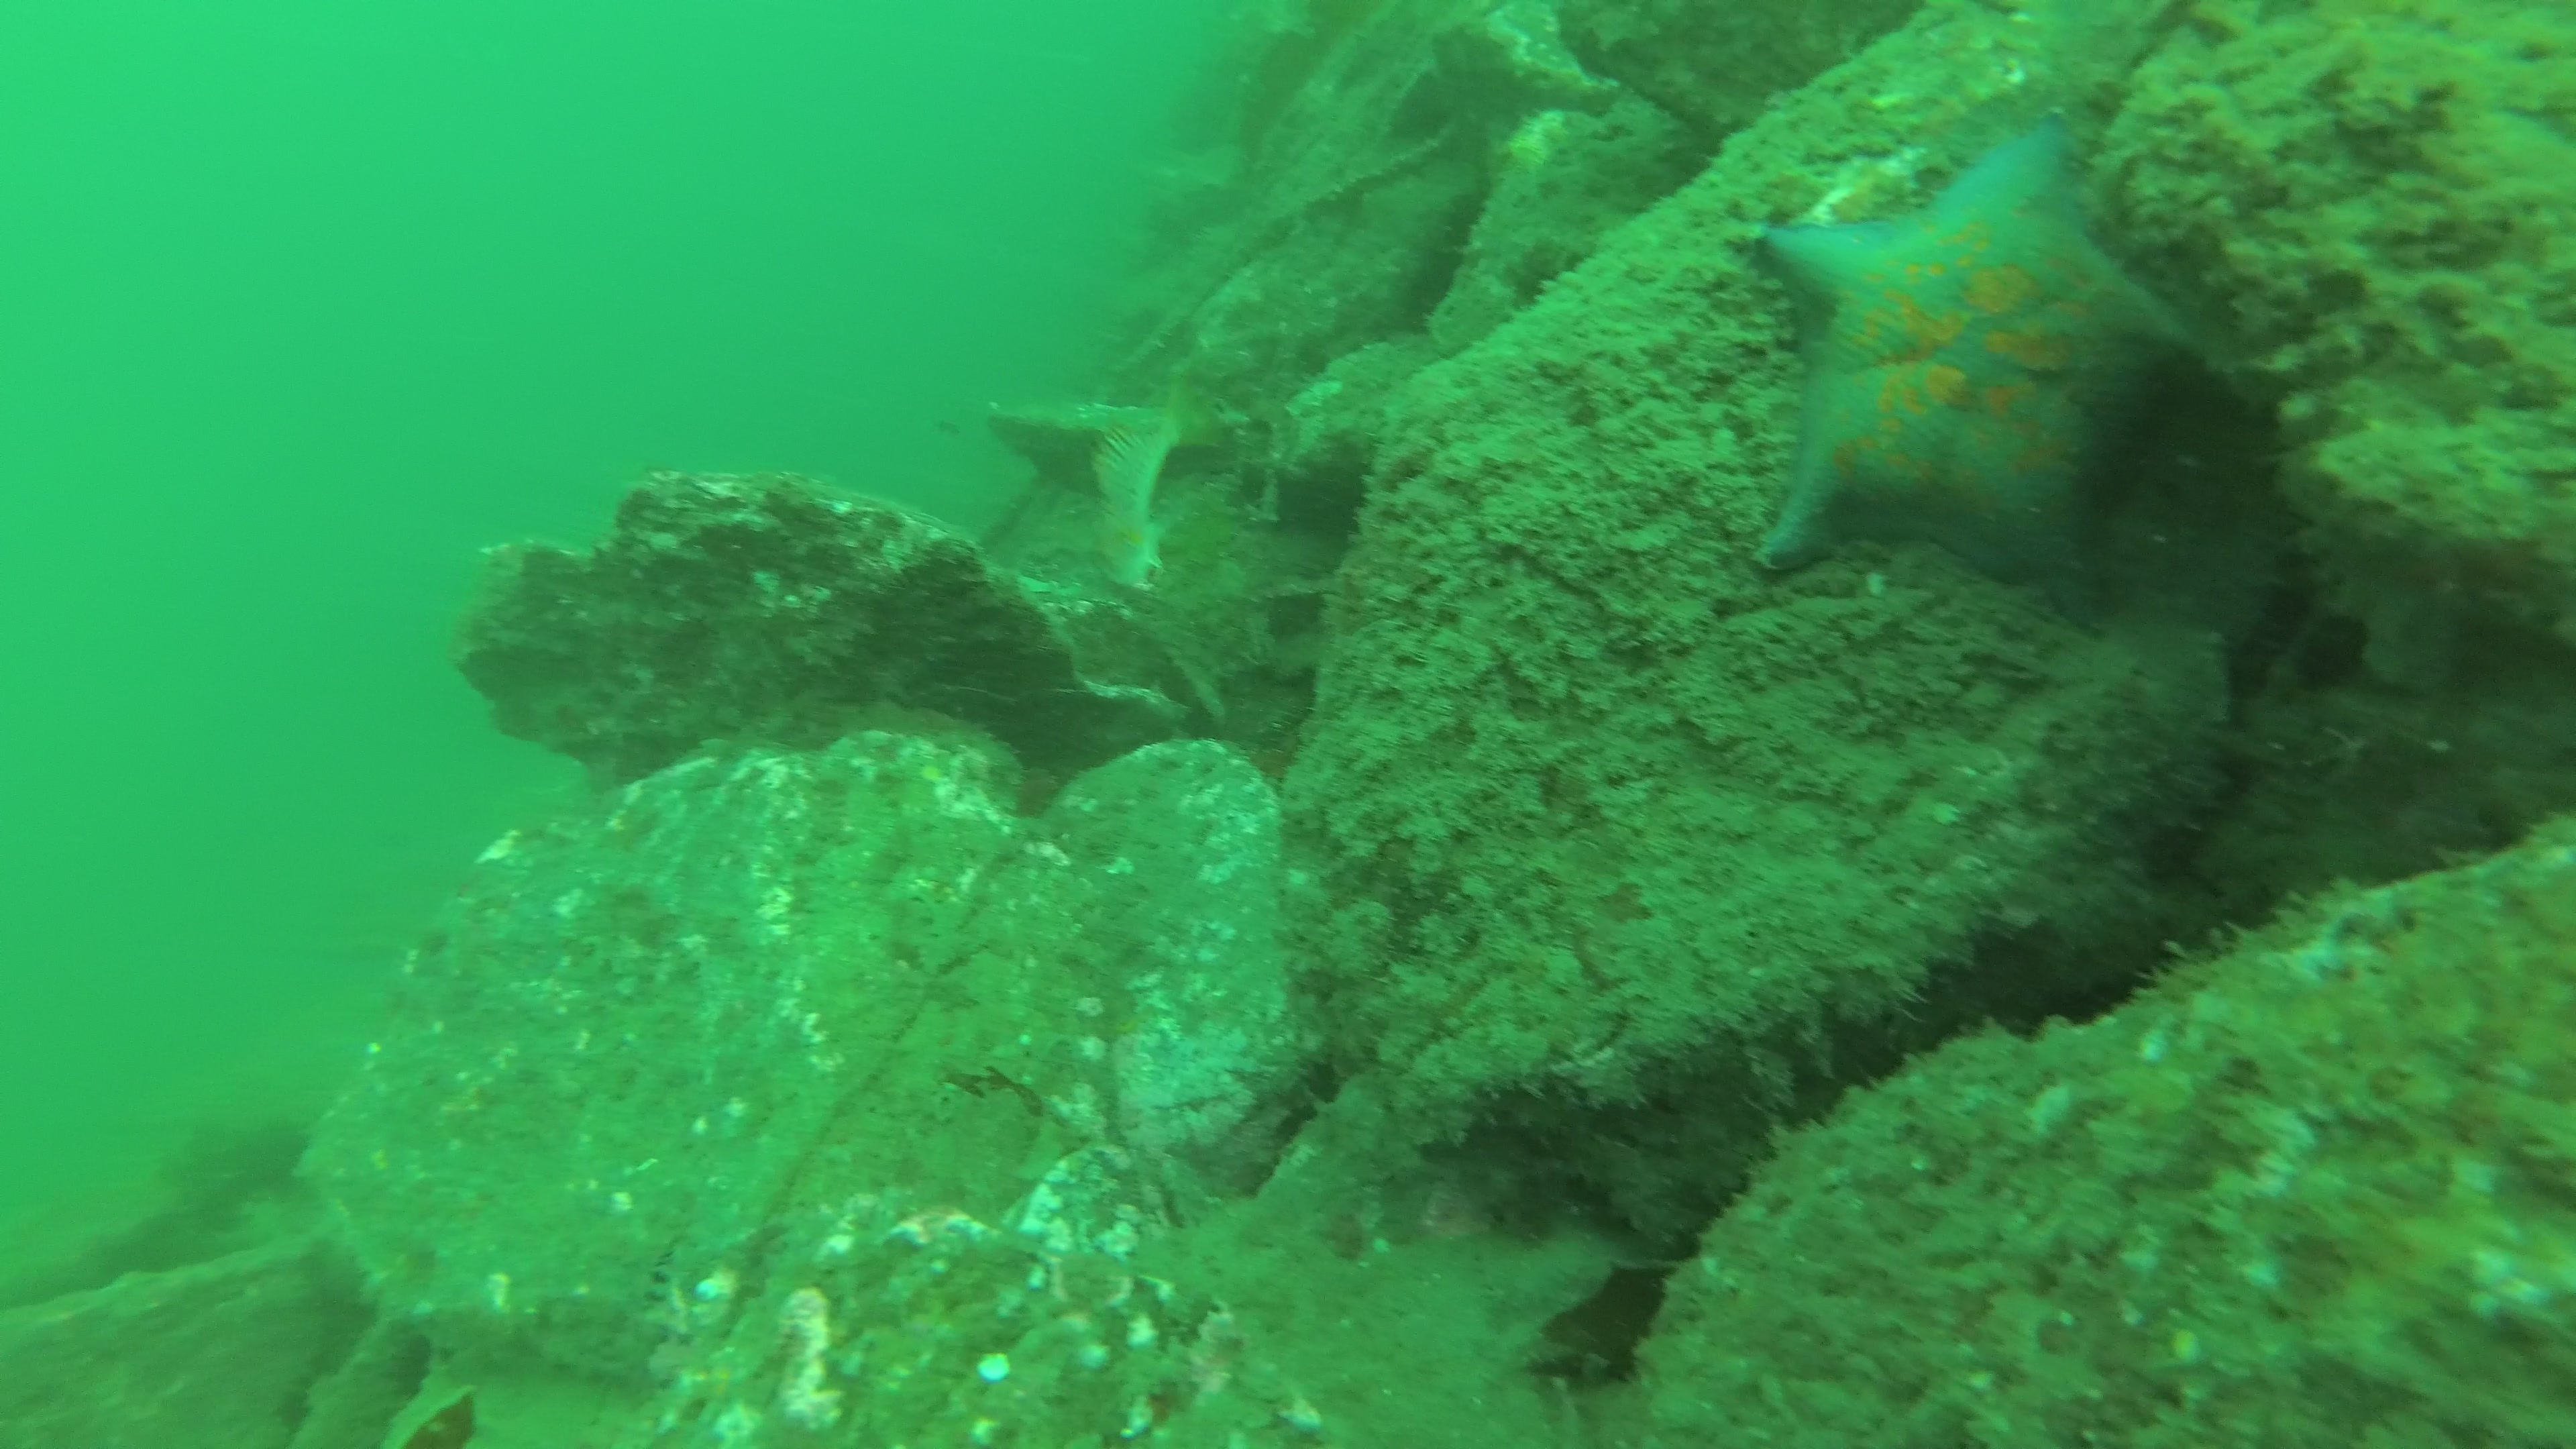starfish: (1732, 117, 2187, 589)
